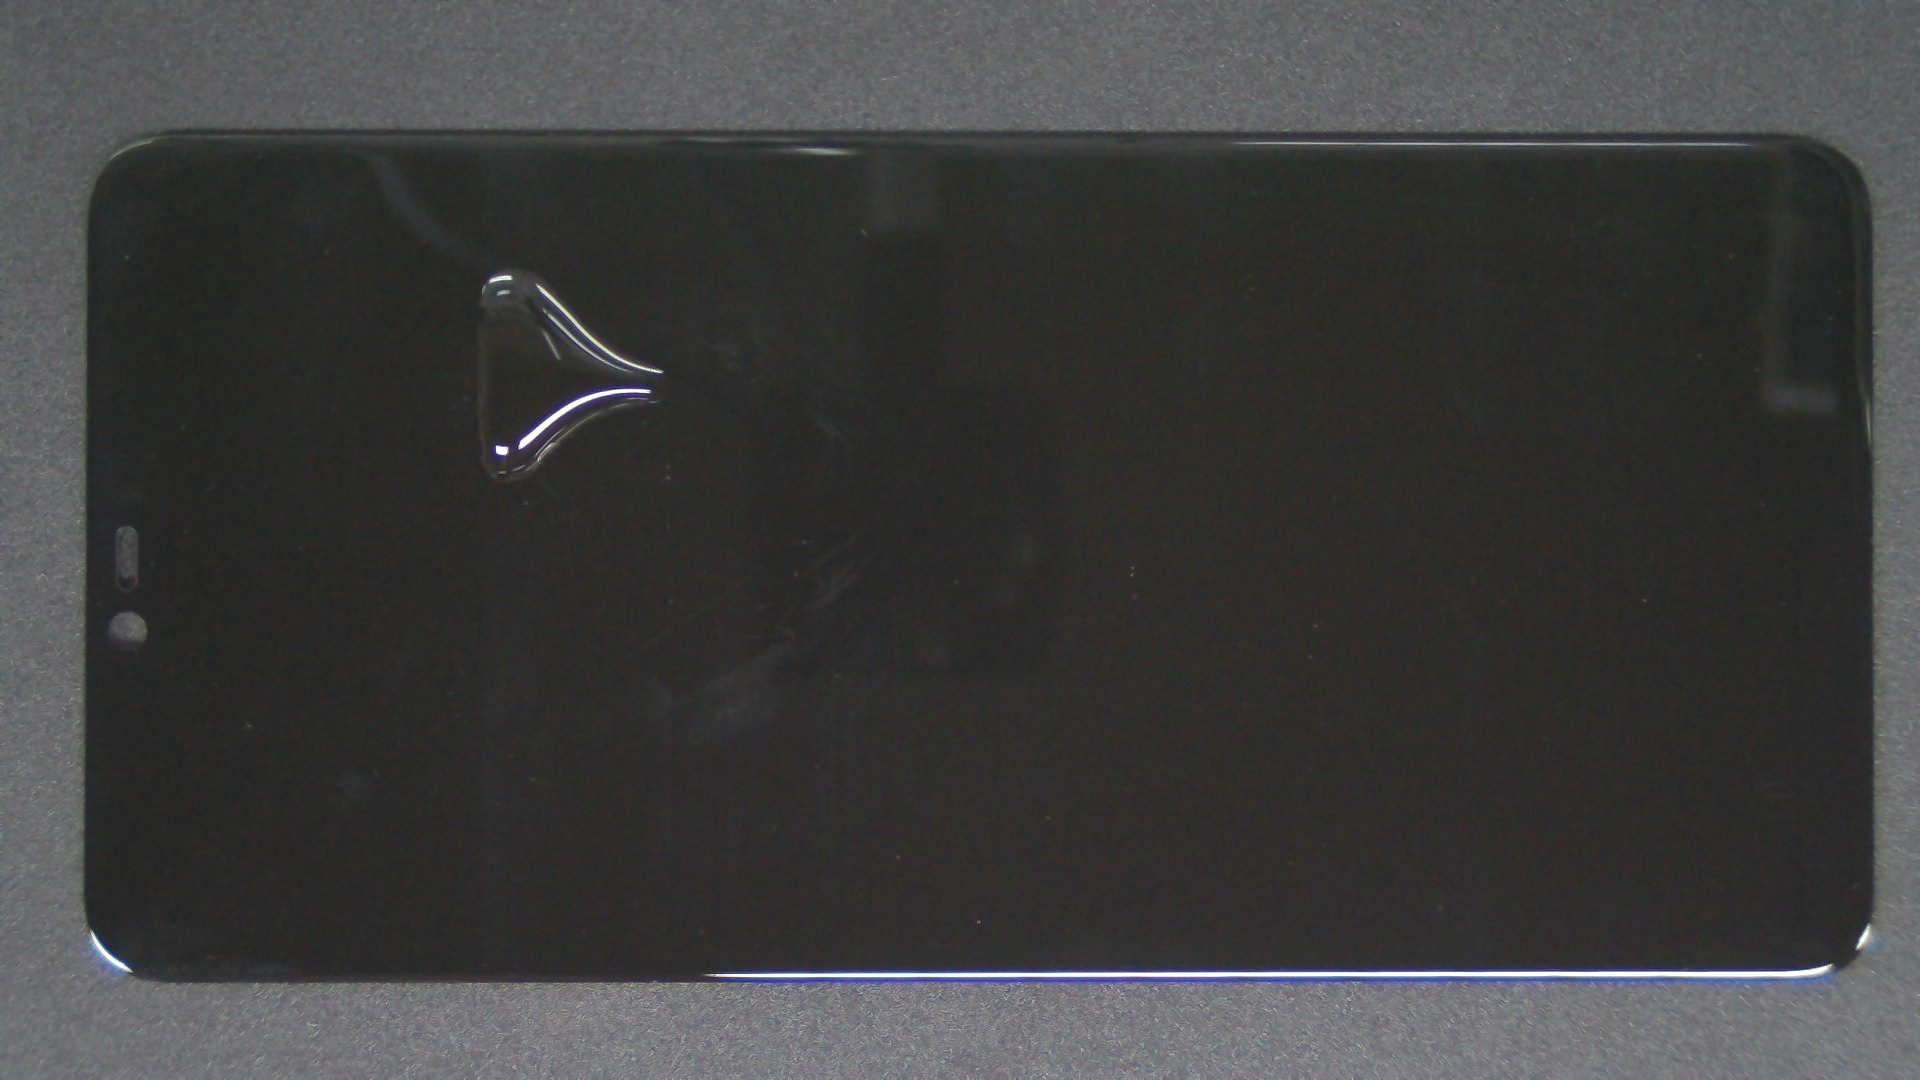oil: (256, 133, 766, 401)
